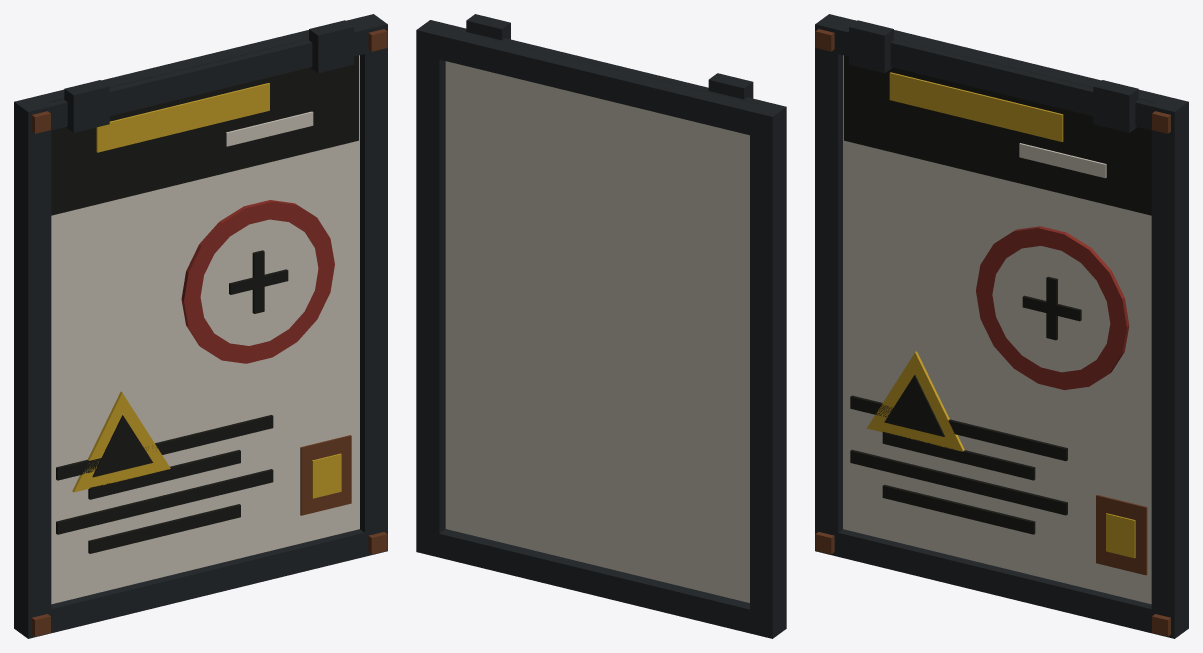
Rendered from poster.glb.
The picture shows the model from 3 angles, left to right: view 1: azimuth 30°, elevation 25°; view 2: azimuth 150°, elevation 25°; view 3: azimuth 330°, elevation 25°; orthographic projection.
Parts seen in each view (by area): view 1: poster; view 2: poster; view 3: poster.
Part boxes in pixels (x1=…): poster: x1=14, y1=14, x2=387, y2=638; poster: x1=416, y1=14, x2=786, y2=638; poster: x1=815, y1=14, x2=1188, y2=638.
Bounding box in the file's own units: 0.5 × 0.715 × 0.048.
